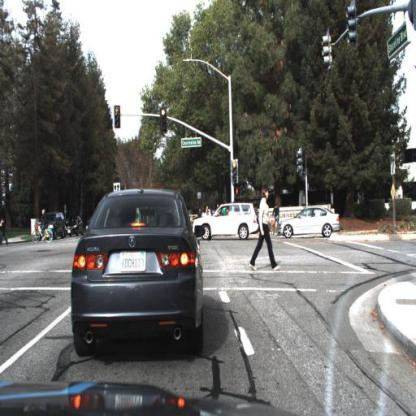biker: (29, 207, 55, 247), (270, 201, 283, 238), (206, 206, 220, 237), (271, 203, 282, 240)
car: (70, 185, 208, 360), (194, 201, 260, 245), (277, 204, 347, 239), (35, 209, 67, 243), (66, 212, 85, 239), (65, 215, 85, 236)
pedestrian: (247, 183, 283, 276), (249, 184, 283, 275), (1, 217, 10, 248)
trafficLight-Red: (230, 158, 241, 185), (159, 105, 168, 135)
trafficLight-RedLeft: (113, 103, 122, 130)
